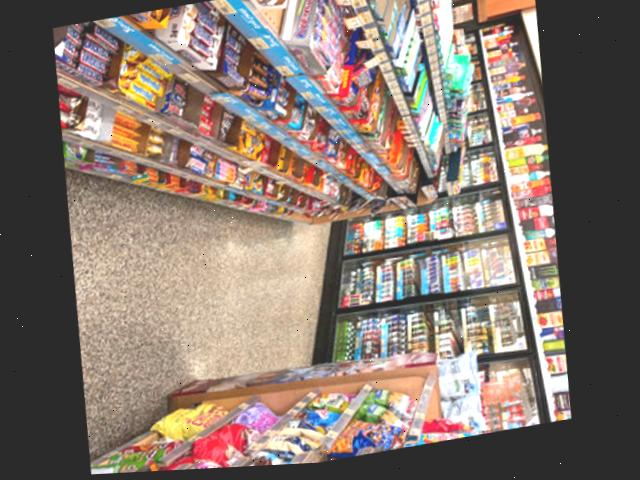background: (38, 0, 587, 478)
